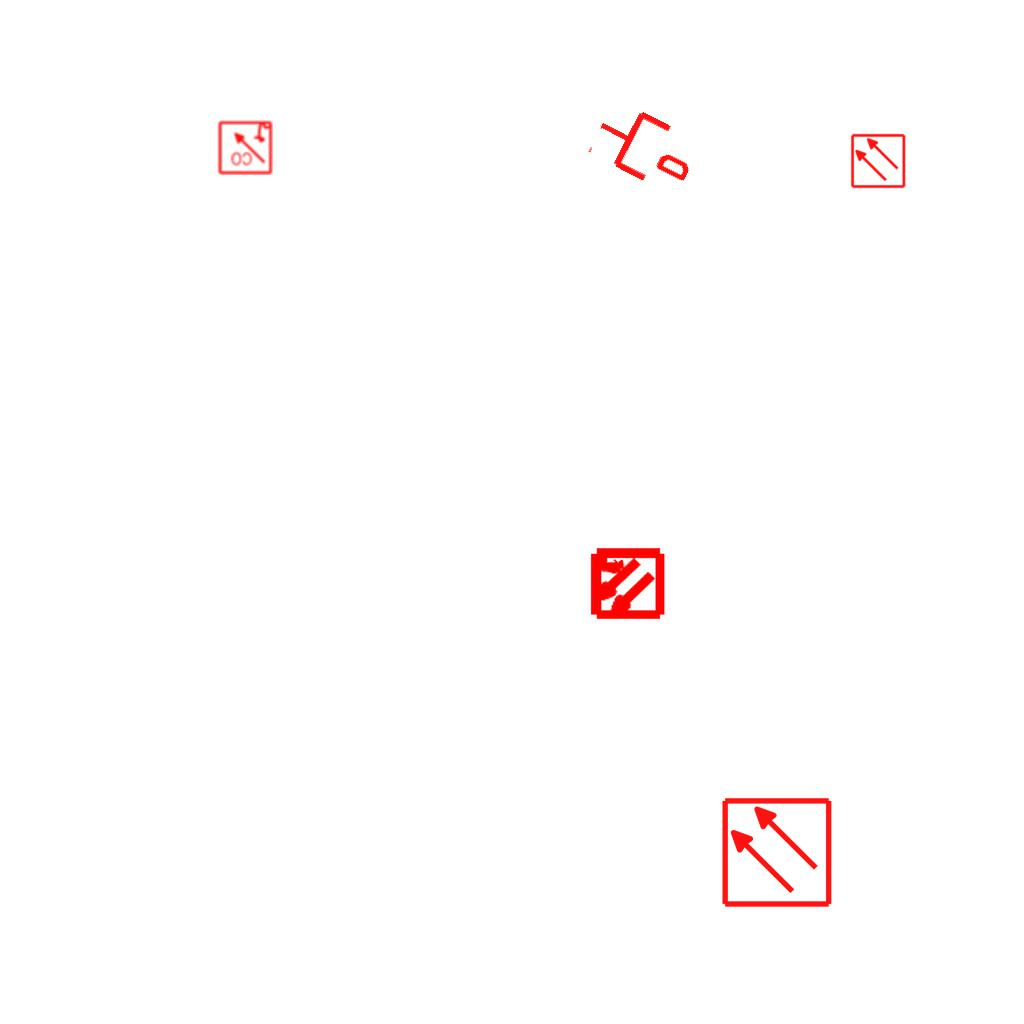Datenanschluss_einfach: (584, 93, 705, 201)
OT_Multisensormelder_(Kombination_RMO_WMD): (569, 527, 682, 640)
RMO_Rauchmelder_optischer: (720, 796, 833, 909), (850, 133, 906, 189)
ROA_Rauchmelder_optisch_mit_Signalgeber_(Sockelsirene): (217, 119, 273, 175)
